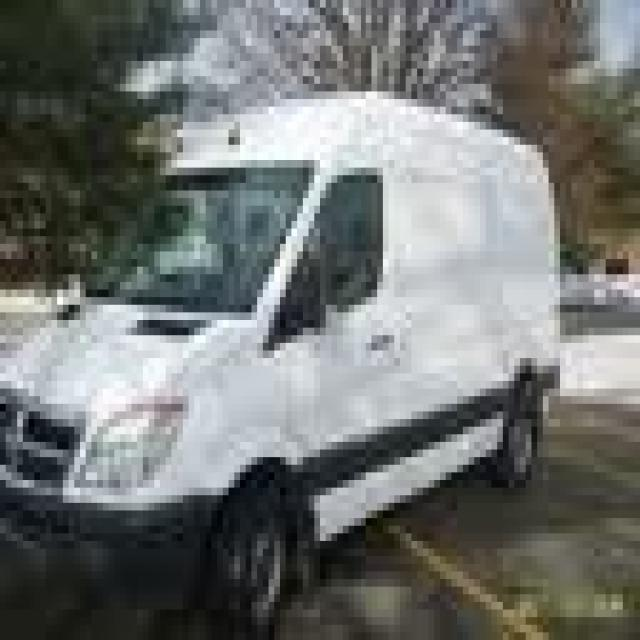car: (3, 91, 560, 632)
